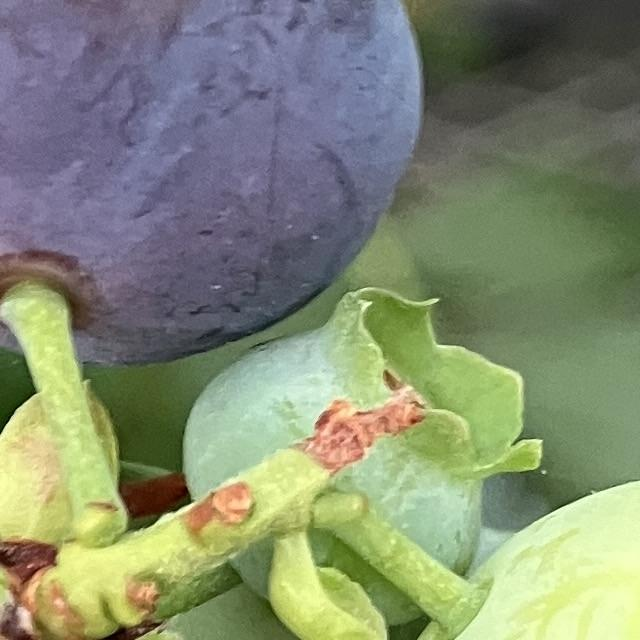Blueberries: (0, 0, 425, 372)
